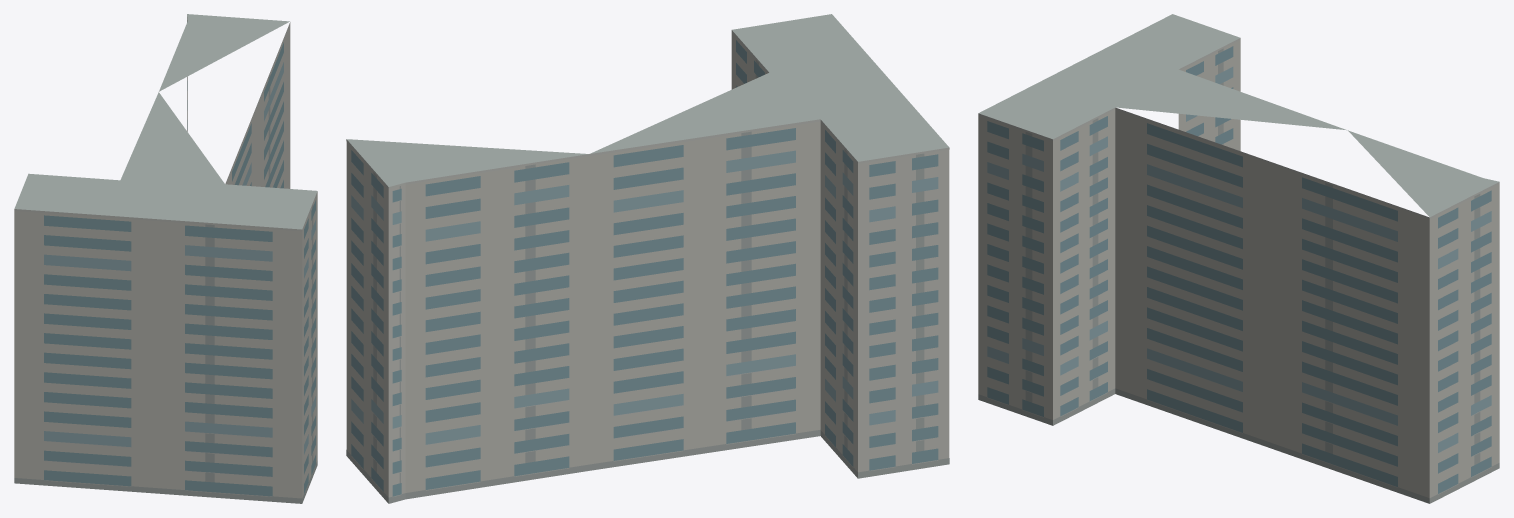
The model's file is residential-6fd20786-72bc-4640-b22b-a666e10c8698.glb.
3 renders of one model, left to right at view 1: azimuth 30°, elevation 25°; view 2: azimuth 150°, elevation 25°; view 3: azimuth 270°, elevation 25°, orthographic. The views are drawn at different scales.
Visible parts, largest first — view 1: residential-6fd20786-72bc-4640-b22b-a666e10c8698.tmp; view 2: residential-6fd20786-72bc-4640-b22b-a666e10c8698.tmp; view 3: residential-6fd20786-72bc-4640-b22b-a666e10c8698.tmp.
Part boxes in pixels (left/top/right/bottom): residential-6fd20786-72bc-4640-b22b-a666e10c8698.tmp: left=14, top=14, right=317, bottom=503; residential-6fd20786-72bc-4640-b22b-a666e10c8698.tmp: left=346, top=14, right=949, bottom=503; residential-6fd20786-72bc-4640-b22b-a666e10c8698.tmp: left=978, top=14, right=1499, bottom=503.
Bounding box in the file's own units: 57.85 × 38 × 62.67.
